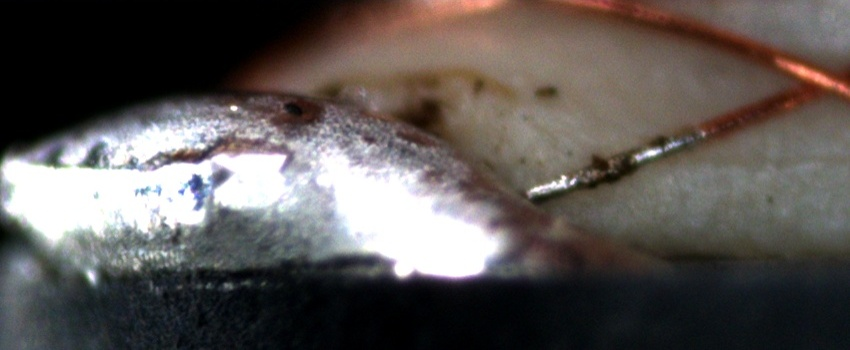CL: (765, 53, 846, 114)
DL: (651, 128, 850, 192)
TS: (526, 127, 709, 203)
